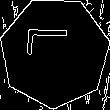L_E: (29, 36, 80, 69)
